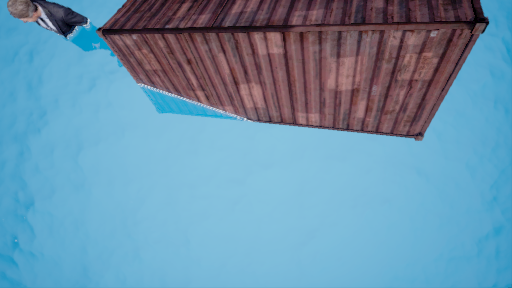person: (5, 1, 105, 63)
